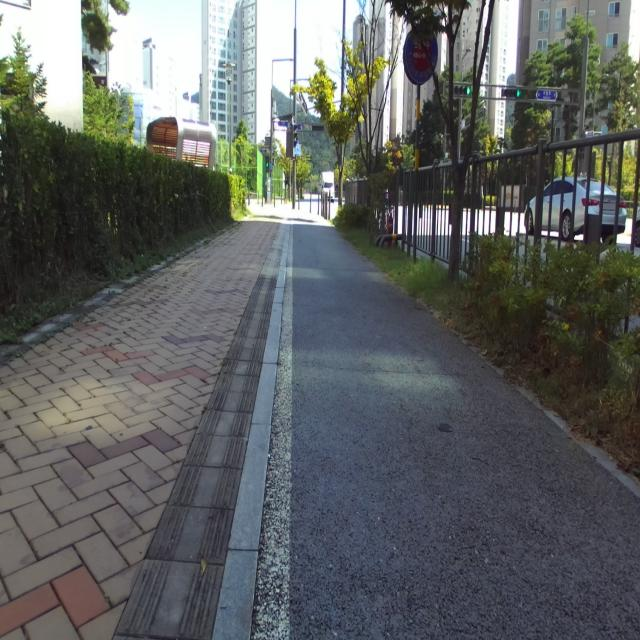초록불: (265, 153, 269, 175)
